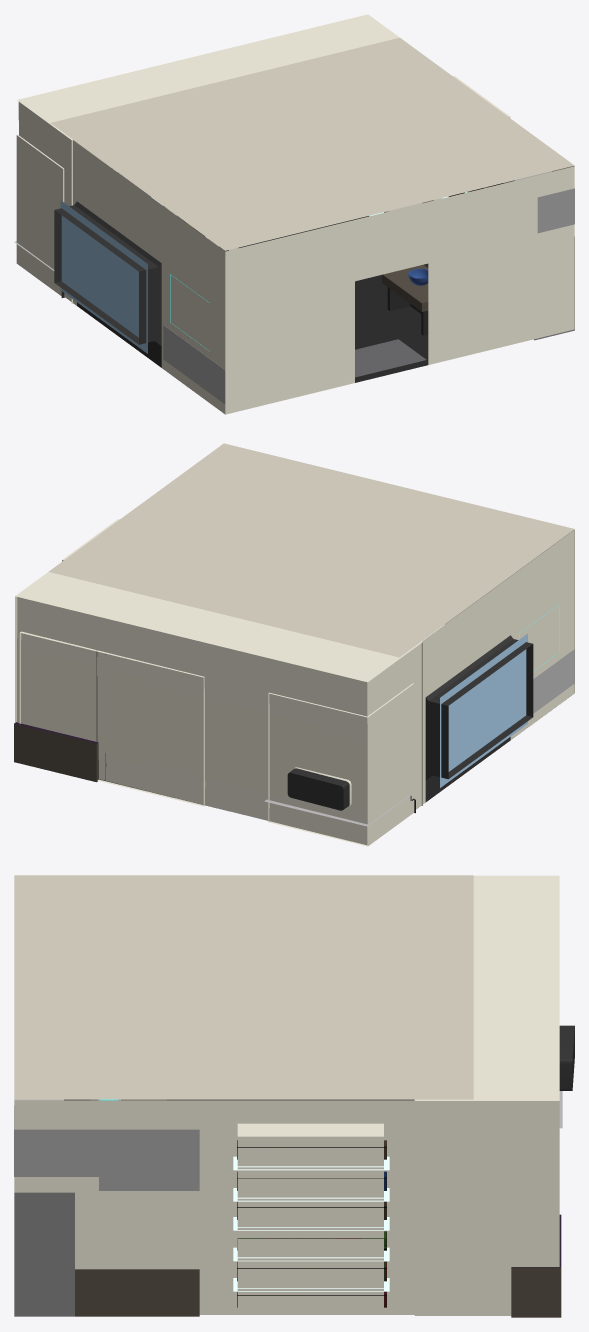
File: Sec_Apartment_LowCeiling_01.fbx
The picture shows the model from 3 angles, top to bottom: view 1: azimuth 30°, elevation 25°; view 2: azimuth 150°, elevation 25°; view 3: azimuth 270°, elevation 25°; orthographic projection. The views are drawn at different scales.
Parts seen in each view (by area): view 1: Walls_01, Ceiling_01, BackWall_01, WindowPane_01, Floor_01, Couch_01, KitchenIsland_01, Carpet_01, KitchenCabinets_01; view 2: Walls_01, Ceiling_01, BackWall_01, WindowPane_01, BathroomSink_01, Couch_01; view 3: Ceiling_01, Walls_01, BackWall_01, KitchenCabinets_01, Fridge_01, KitchenSink_01, BookShelf_01, BathroomSink_01, Books_01.
Part boxes in pixels (left/top/right/bottom): Walls_01: left=18, top=76, right=574, bottom=414; Ceiling_01: left=51, top=37, right=574, bottom=250; BackWall_01: left=16, top=14, right=422, bottom=303; WindowPane_01: left=60, top=200, right=147, bottom=353; Floor_01: left=238, top=216, right=428, bottom=382; Couch_01: left=163, top=325, right=225, bottom=404; KitchenIsland_01: left=382, top=264, right=428, bottom=335; Carpet_01: left=355, top=339, right=426, bottom=377; KitchenCabinets_01: left=467, top=171, right=574, bottom=233; Walls_01: left=17, top=519, right=574, bottom=845; Ceiling_01: left=48, top=443, right=574, bottom=657; BackWall_01: left=15, top=572, right=422, bottom=846; WindowPane_01: left=440, top=633, right=527, bottom=787; BathroomSink_01: left=14, top=722, right=98, bottom=782; Couch_01: left=533, top=649, right=574, bottom=713; Ceiling_01: left=14, top=875, right=473, bottom=1099; Walls_01: left=14, top=1025, right=574, bottom=1314; BackWall_01: left=414, top=875, right=559, bottom=1315; KitchenCabinets_01: left=14, top=1106, right=199, bottom=1190; Fridge_01: left=14, top=1192, right=74, bottom=1316; KitchenSink_01: left=75, top=1269, right=199, bottom=1316; BookShelf_01: left=233, top=1156, right=389, bottom=1291; BathroomSink_01: left=511, top=1214, right=561, bottom=1317; Books_01: left=237, top=1140, right=386, bottom=1307.
Bounding box in the file's own units: 2792 × 1121 × 2620.
